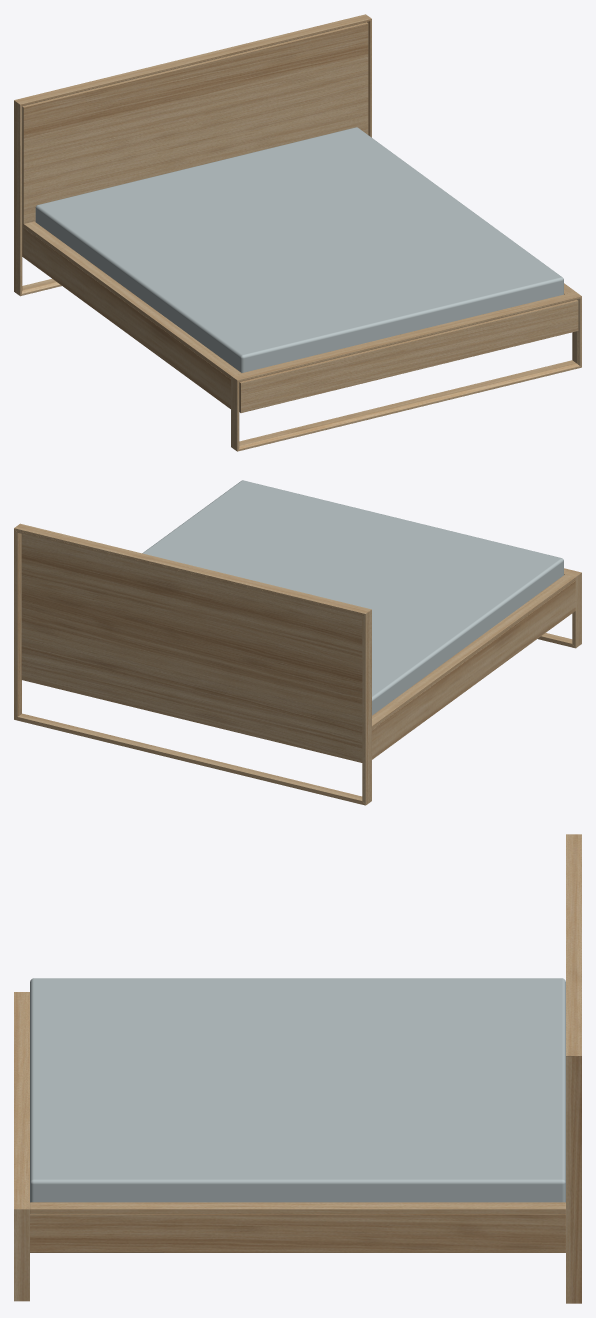
The model's file is roden.glb.
3 views of the same model, one above another, from view 1: azimuth 30°, elevation 25°; view 2: azimuth 150°, elevation 25°; view 3: azimuth 270°, elevation 25° (orthographic). The views are drawn at different scales.
Visible parts, largest first — view 1: Cube.001, Cube.006, Cube.005, Cube.014, Cube, Cube.009, Cube.011, Cube.002, Cube.007, Cube.004; view 2: Cube.006, Cube.001, Cube.014, Cube.009, Cube.010, Cube.011, Cube.007, Cube.008, Cube.004; view 3: Cube.001, Cube.013, Cube.012, Cube.008, Cube.009, Cube.002, Cube.003.
Part boxes in pixels (x1,y1,x2,y2): Cube.001: (35,127,563,372); Cube.006: (22,22,368,257); Cube.005: (239,299,578,412); Cube.014: (23,228,230,408); Cube: (237,360,581,451); Cube.009: (14,14,371,106); Cube.011: (23,221,241,378); Cube.002: (231,291,581,381); Cube.007: (14,100,22,295); Cube.004: (231,376,239,451); Cube.006: (21,534,362,762); Cube.001: (142,480,563,715); Cube.014: (372,581,575,759); Cube.009: (14,523,371,616); Cube.010: (14,713,365,805); Cube.011: (372,574,575,729); Cube.007: (362,610,371,805); Cube.008: (14,528,21,719); Cube.004: (572,573,581,647); Cube.001: (30,978,565,1202); Cube.013: (30,1214,565,1252); Cube.012: (30,1202,565,1213); Cube.008: (566,1056,581,1303); Cube.009: (566,834,581,1056); Cube.002: (14,992,29,1209); Cube.003: (14,1209,29,1301).
Size of the model in its own units: 3.92 by 2.04 by 4.24.
Materials: 2 (1 with a texture image).
